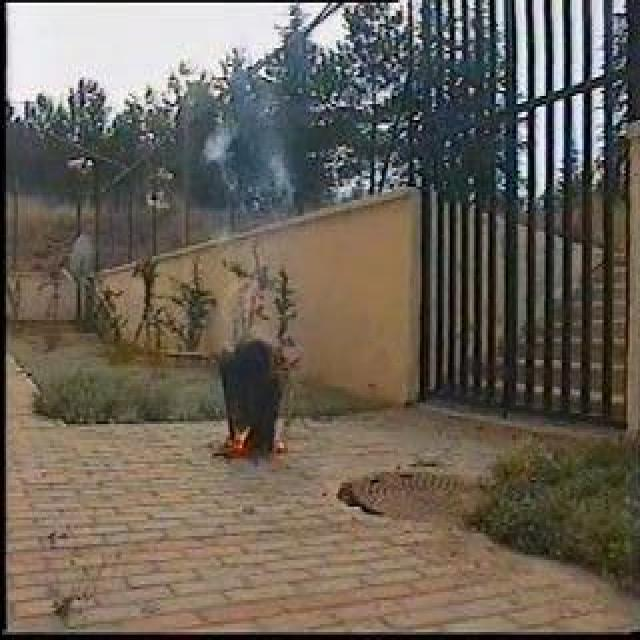smoke: (199, 99, 297, 216)
